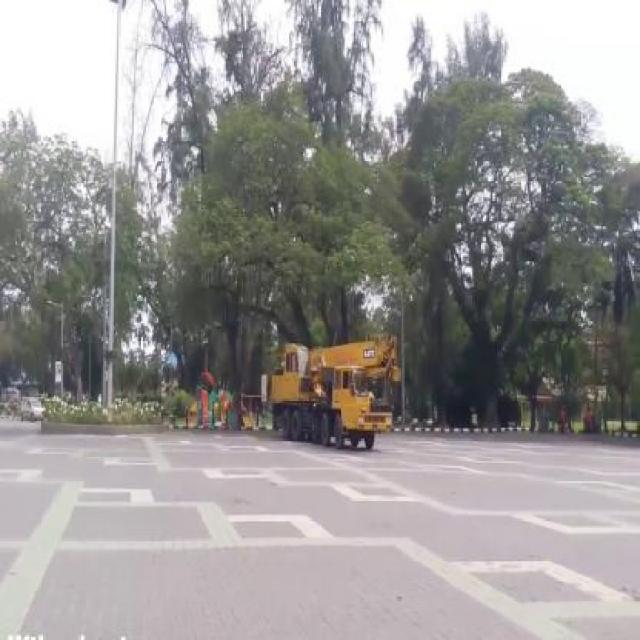Mobile Crane: (271, 337, 397, 445)
